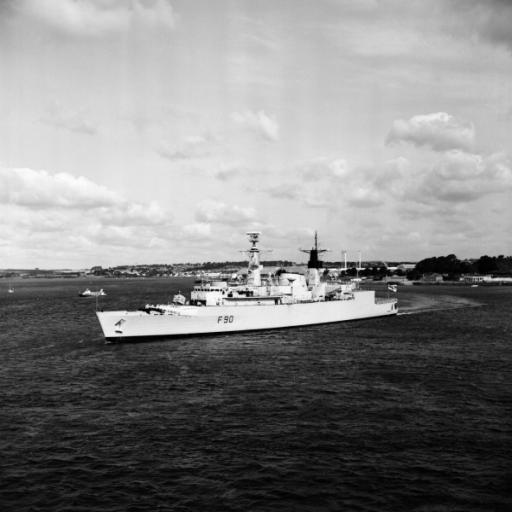Fragata: (94, 215, 402, 345)
